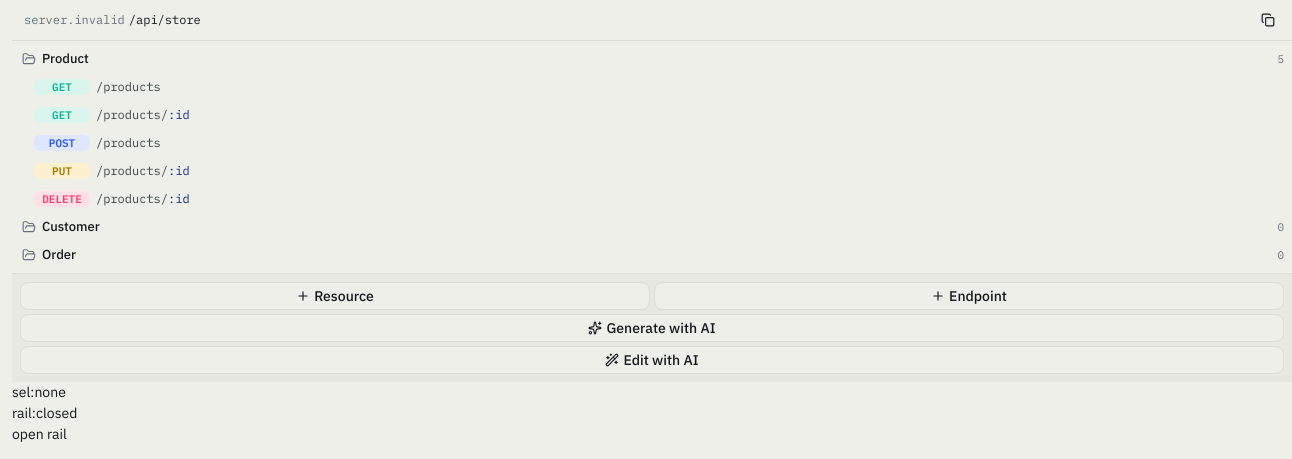
Test: right-click menus › offers the endpoint menu
Right-click the list item "GET /products" at (97,87), box [34,79,161,95]
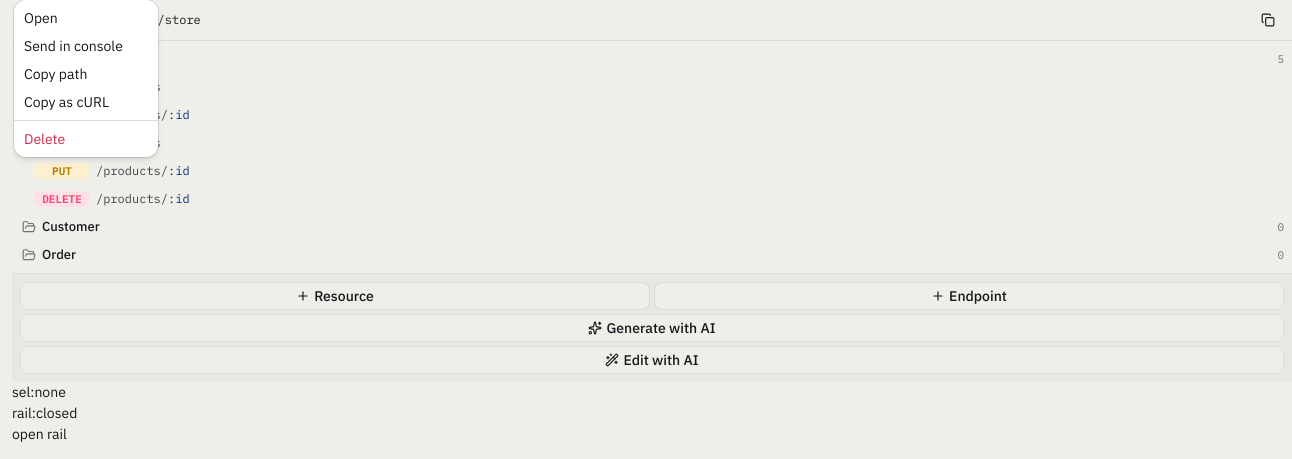
Check: the menu item "Open" is shown, box [24,9,58,27]
Check: the menu item "Send in console" is shown, box [24,37,123,55]
Check: the menu item "Copy path" is shown, box [24,65,87,83]
